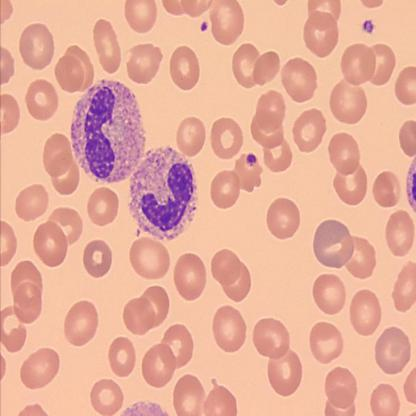Band Neutrophil: (68, 75, 147, 189), (122, 142, 204, 244)
